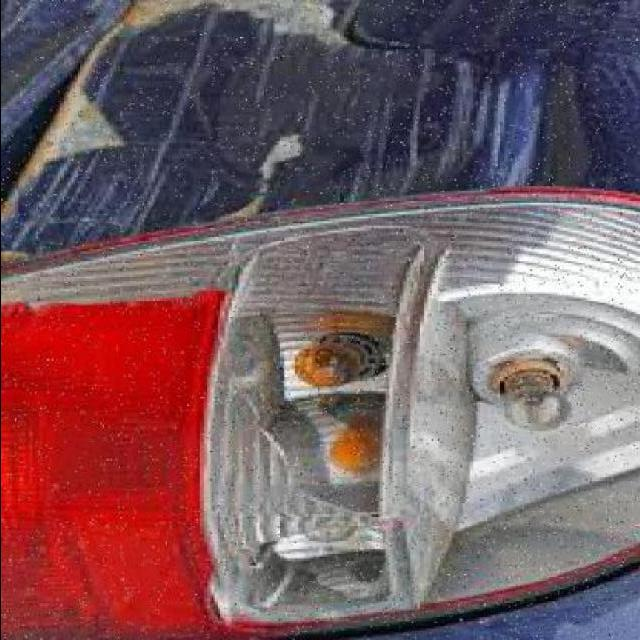Taillight-Damage: (3, 190, 640, 639)
